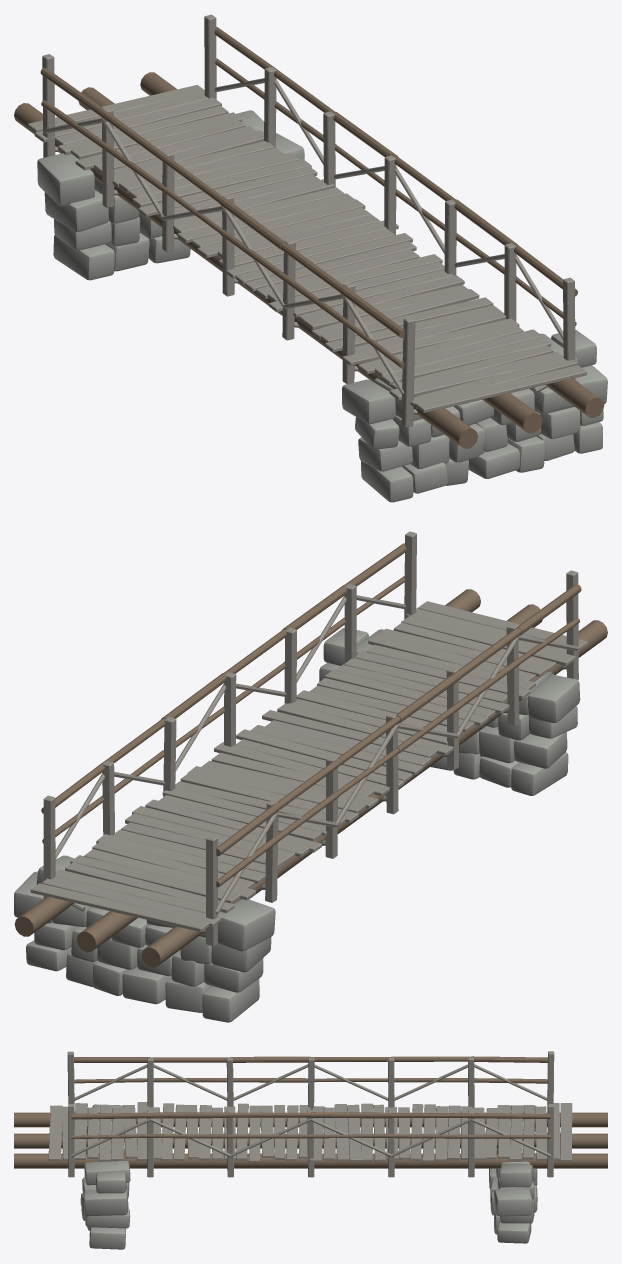
File: bridge.glb
3 renders of one model, top to bottom at view 1: azimuth 30°, elevation 25°; view 2: azimuth 150°, elevation 25°; view 3: azimuth 270°, elevation 25°, orthographic. The views are drawn at different scales.
Visible parts, largest first — view 1: Bridge; view 2: Bridge; view 3: Bridge.
Part boxes in pixels (<box>): Bridge: <box>14,14,607,502</box>; Bridge: <box>14,531,607,1022</box>; Bridge: <box>14,1051,607,1249</box>.
Bounding box in the file's own units: 3.92 × 3.03 × 12.4.
